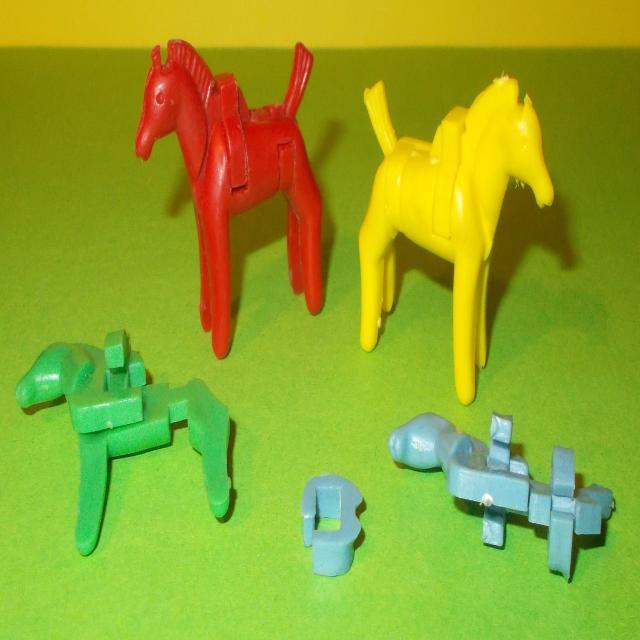hard-toy: (360, 76, 555, 404), (136, 41, 324, 359), (16, 331, 231, 556), (389, 413, 615, 580)
